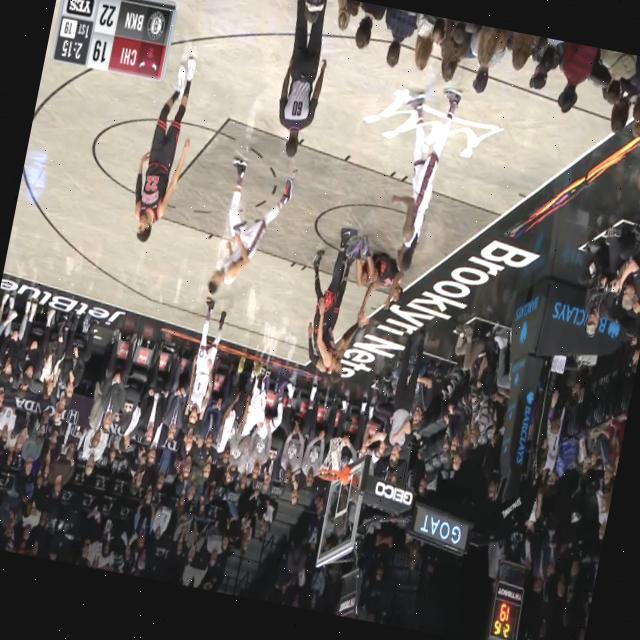no foul: (170, 128, 310, 320), (280, 222, 427, 400)
